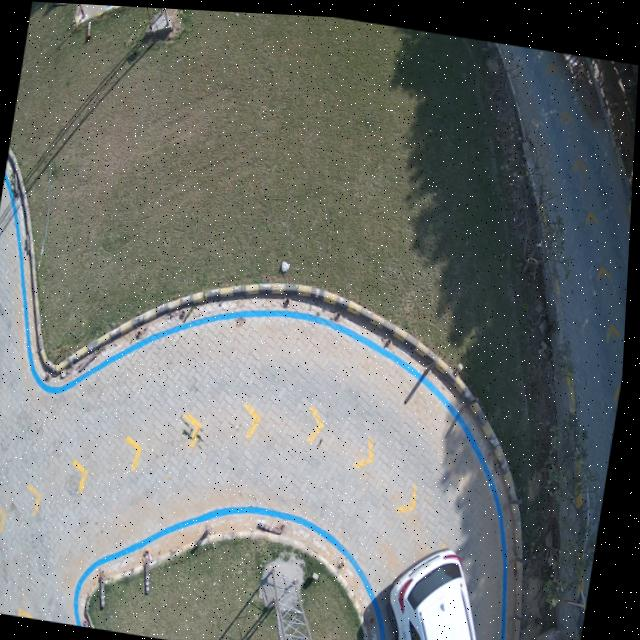car: (395, 546, 486, 640)
